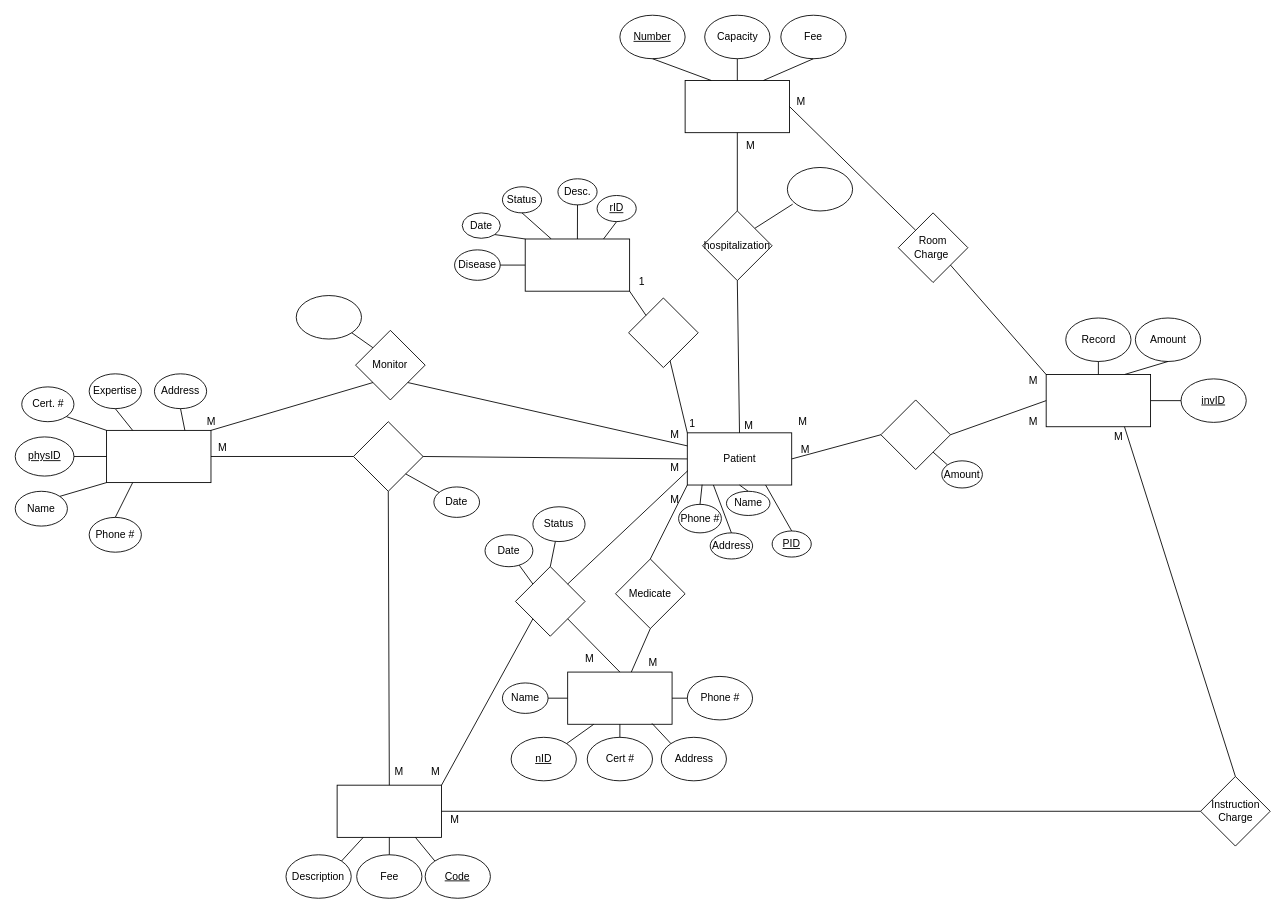
The diagram is 1286 pixels wide and 914 high, and some of its shapes have lost their labels. Here are the shapes that lost their labels. From the top down, the centre of each, then its label:
At (737,106): "Room".
At (819,189): "# Nights".
At (577,264): "Health Record".
At (328,317): "Duration".
At (663,332): "Has".
At (1098,400): "Invoice".
At (915,434): "Payments".
At (158,456): "Physician".
At (388,456): "Orders".
At (550,601): "Execution".
At (619,697): "Nurse".
At (389,810): "Instruction".
